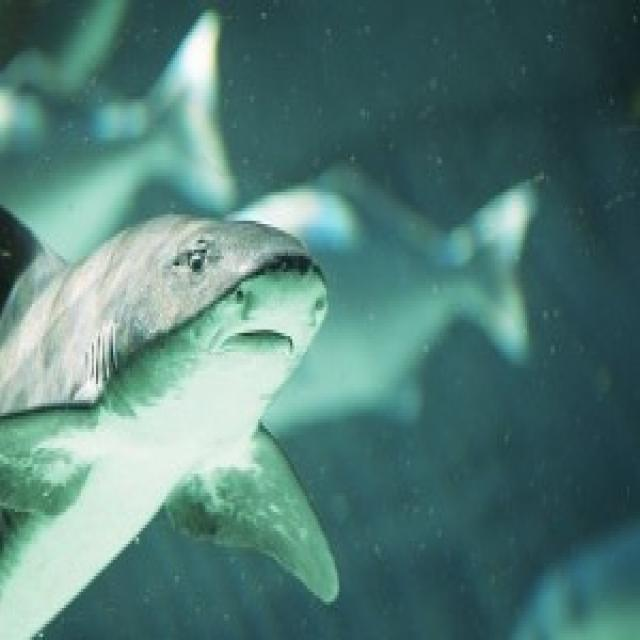Shark: (0, 192, 343, 640), (353, 180, 555, 426), (1, 8, 257, 187)
